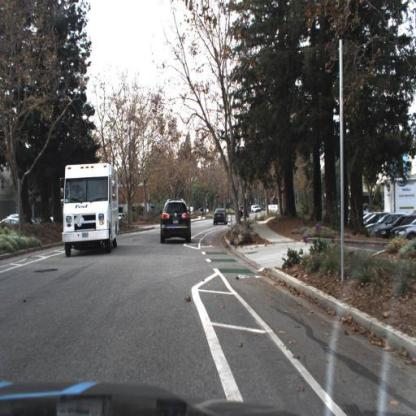car: (158, 197, 194, 244), (367, 219, 388, 236), (213, 206, 228, 226), (376, 224, 393, 236), (238, 206, 248, 217), (251, 202, 261, 213)
truck: (58, 161, 120, 262)
